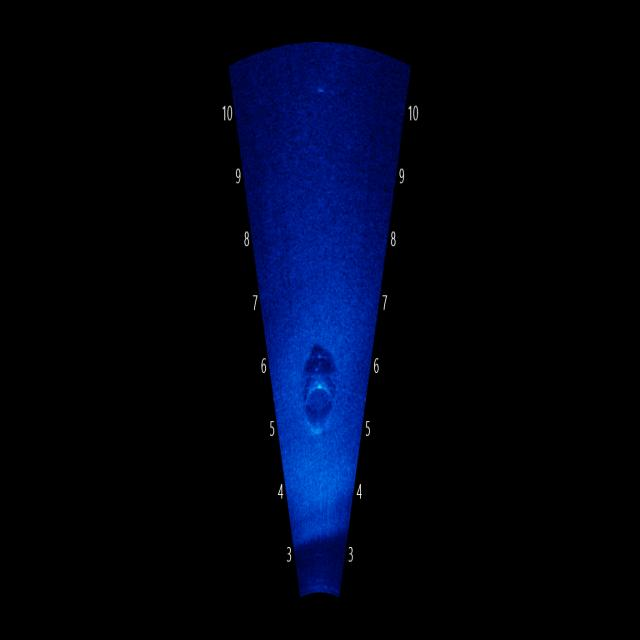circle: (288, 341, 346, 449)
